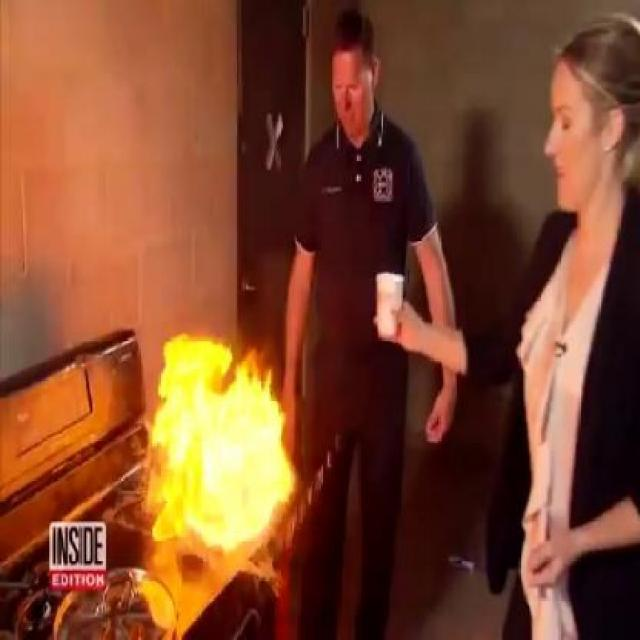fire: (156, 296, 284, 546)
